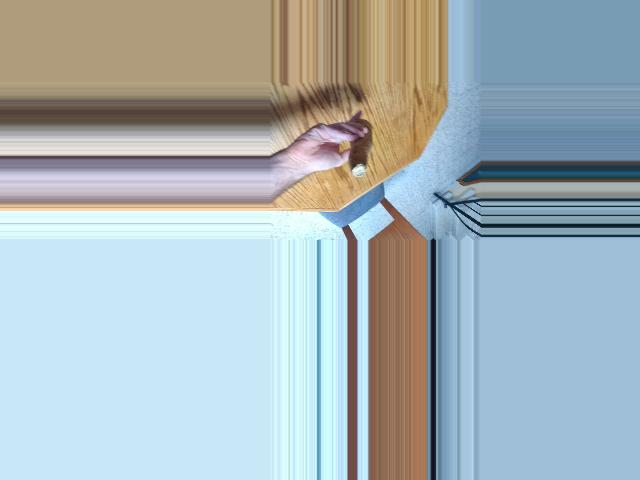sweet_potato: (346, 122, 372, 167)
